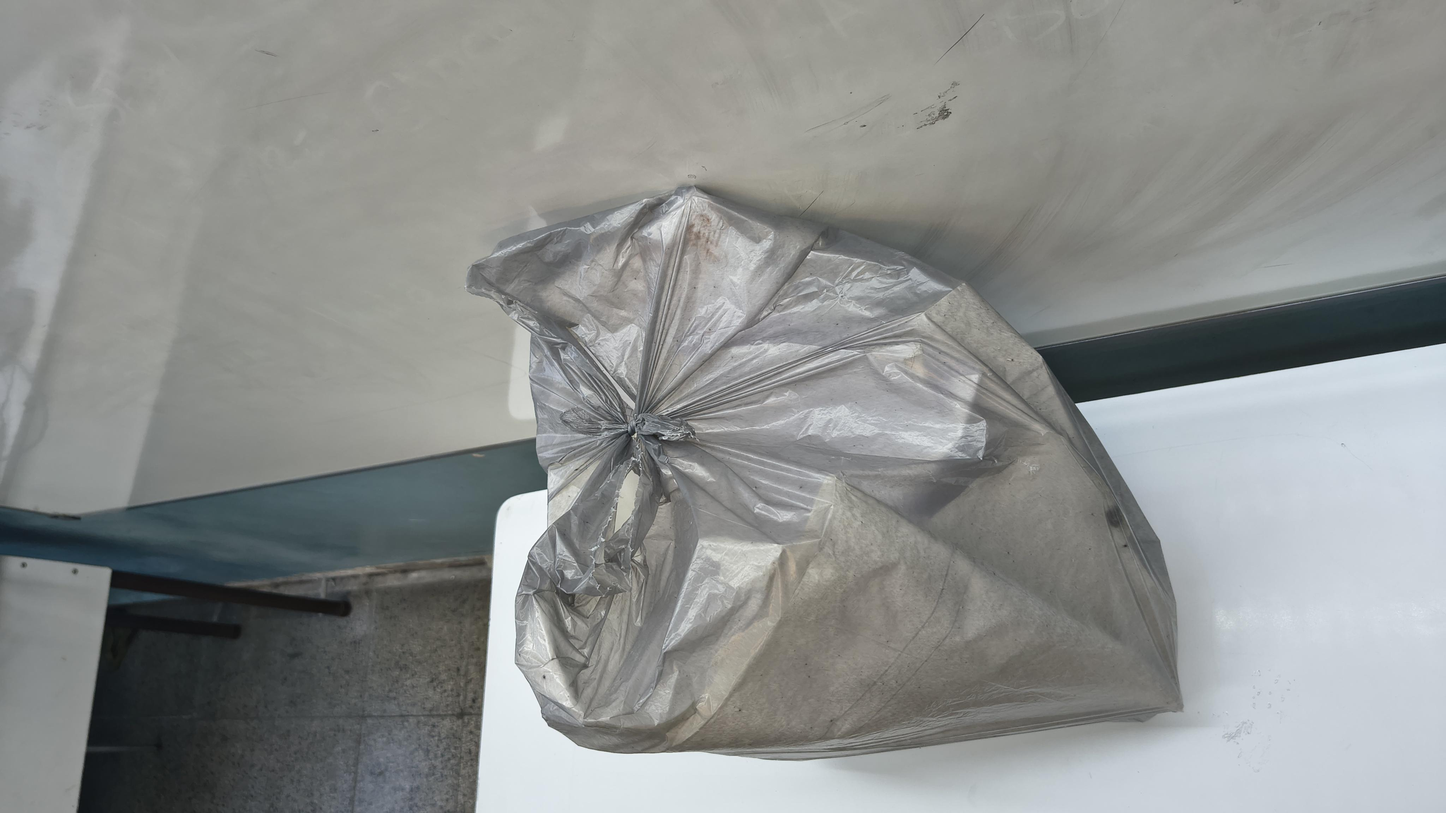Garbage: (63, 232, 1255, 701)
